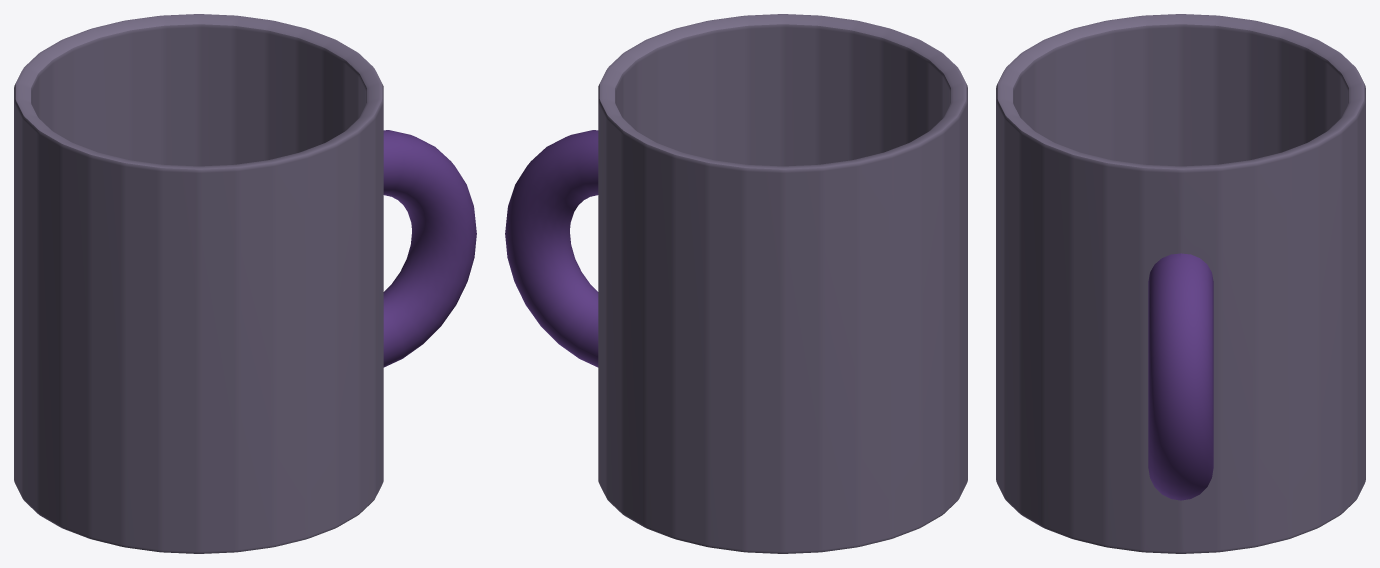
The model's file is caneca.fbx.
3 renders of one model, left to right at view 1: azimuth 30°, elevation 25°; view 2: azimuth 150°, elevation 25°; view 3: azimuth 270°, elevation 25°, orthographic.
Parts seen in each view (by area): view 1: pCylinder2; view 2: pCylinder2; view 3: pCylinder2.
Boxes of the visible parts, left/top/right/bottom form: pCylinder2: left=14, top=14, right=476, bottom=553; pCylinder2: left=505, top=14, right=967, bottom=553; pCylinder2: left=996, top=14, right=1365, bottom=553.
Size of the model in its own units: 10.8 by 9.16 by 7.96.
